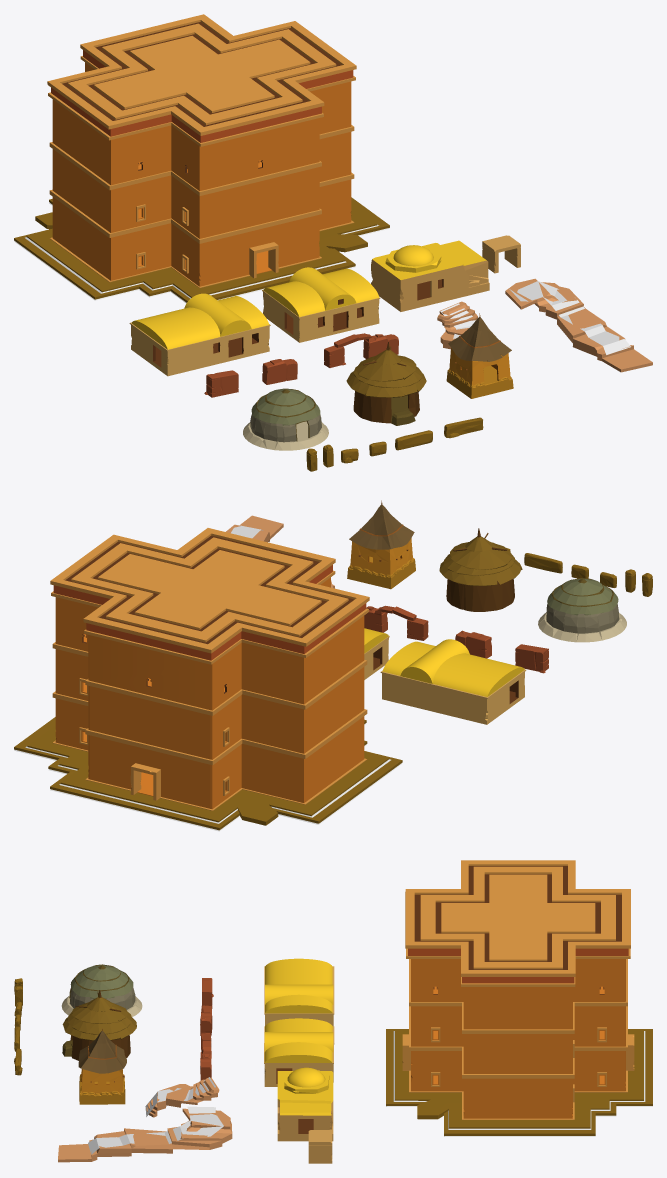
Rendered from Map - Zooing.fbx.
3 views of the same model, one above another, from view 1: azimuth 30°, elevation 25°; view 2: azimuth 150°, elevation 25°; view 3: azimuth 270°, elevation 25° (orthographic). The views are drawn at different scales.
Visible parts, largest first — view 1: Lalibela_Building, Tunisia_House_A, Tunisia_House_B, Tunisia_House_C, MaliHut_A, MaliHut_C, MaliHut_B, Lalibela_Ground_Steps, Tunisia Ground_Stair_02, Tunisia Ground_Stair_02_InviSlope, Tunisia_Arc, Lalibela_Ground_InviSlope (+4 smaller); view 2: Lalibela_Building, Tunisia_House_A, MaliHut_A, MaliHut_C, Lalibela_Ground_Steps, MaliHut_B, Lalibela_Ground_InviSlope, Tunisia_Arc, Tunisia_House_B, Tunisia_Wall_A, Tunisia_Wall_B, Tunisia Ground_Stair_02 (+1 smaller); view 3: Lalibela_Building, Tunisia_House_A, Tunisia_House_C, Tunisia_House_B, Tunisia Ground_Stair_02, Lalibela_Ground_Steps, MaliHut_A, MaliHut_B, MaliHut_C, Tunisia Ground_Stair_02_InviSlope, Tunisia Ground_Stair_01, Lalibela_Ground_InviSlope (+3 smaller).
Boxes of the visible parts, box(x1,y1,x2,y2) form: Lalibela_Building: box(27, 14, 376, 297); Tunisia_House_A: box(129, 293, 270, 376); Tunisia_House_B: box(262, 267, 380, 342); Tunisia_House_C: box(371, 240, 489, 311); MaliHut_A: box(346, 342, 426, 425); MaliHut_C: box(243, 388, 328, 450); MaliHut_B: box(446, 313, 513, 398); Lalibela_Ground_Steps: box(14, 197, 389, 302); Tunisia Ground_Stair_02: box(505, 278, 652, 372); Tunisia Ground_Stair_02_InviSlope: box(509, 281, 630, 354); Tunisia_Arc: box(324, 333, 398, 367); Lalibela_Ground_InviSlope: box(14, 203, 389, 303); Lalibela_Building: box(27, 528, 388, 825); Tunisia_House_A: box(380, 639, 526, 724); MaliHut_A: box(439, 528, 522, 611); MaliHut_C: box(538, 578, 626, 642); Lalibela_Ground_Steps: box(14, 717, 402, 830); MaliHut_B: box(347, 500, 415, 589); Lalibela_Ground_InviSlope: box(14, 723, 401, 831); Tunisia_Arc: box(364, 605, 428, 640); Tunisia_House_B: box(364, 628, 389, 679); Tunisia_Wall_A: box(515, 644, 548, 673); Tunisia_Wall_B: box(455, 630, 491, 658); Tunisia Ground_Stair_02: box(226, 515, 283, 542); Lalibela_Building: box(395, 860, 643, 1127); Tunisia_House_A: box(264, 958, 334, 1026); Tunisia_House_C: box(277, 1067, 333, 1141); Tunisia_House_B: box(264, 1018, 334, 1086); Tunisia Ground_Stair_02: box(58, 1108, 232, 1162); Lalibela_Ground_Steps: box(386, 1029, 652, 1135); MaliHut_A: box(62, 990, 136, 1060); MaliHut_B: box(78, 1029, 126, 1104); MaliHut_C: box(61, 964, 142, 1016); Tunisia Ground_Stair_02_InviSlope: box(88, 1106, 223, 1154); Tunisia Ground_Stair_01: box(146, 1077, 219, 1117); Lalibela_Ground_InviSlope: box(386, 1031, 652, 1136).
Size of the model in its own units: 4728 by 1928 by 7300.
